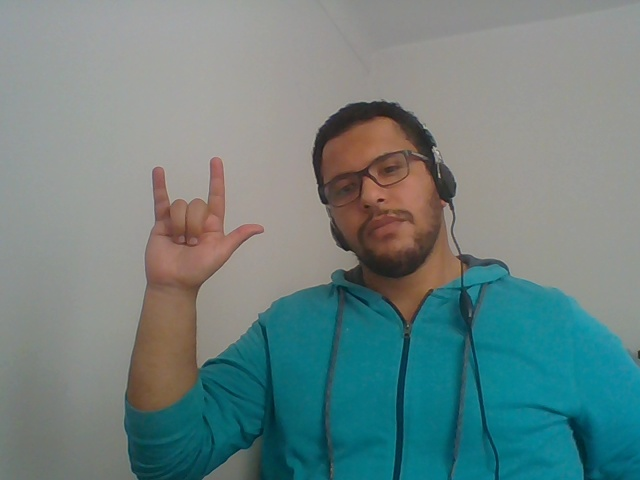iloveyou: (107, 144, 271, 353)
